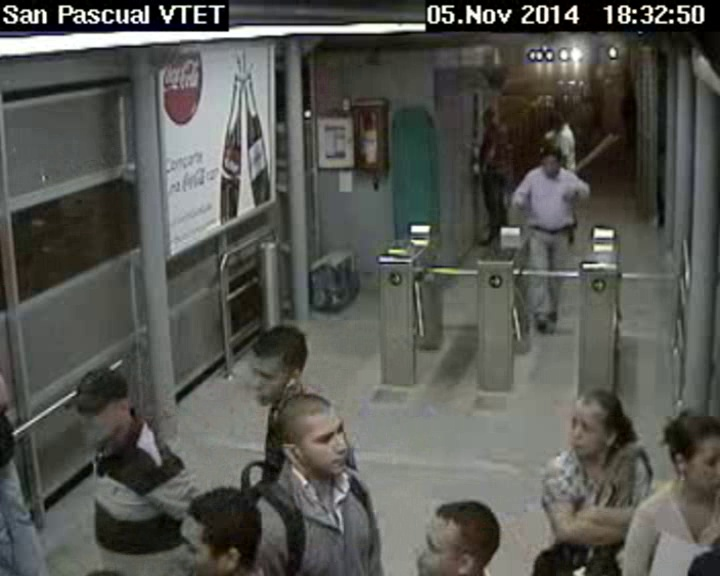person: (175, 486, 267, 576), (411, 493, 501, 576), (271, 393, 353, 480), (654, 404, 720, 498), (68, 368, 136, 453), (246, 322, 304, 410), (567, 389, 630, 466), (532, 150, 560, 178), (549, 105, 571, 132), (477, 108, 500, 127)
